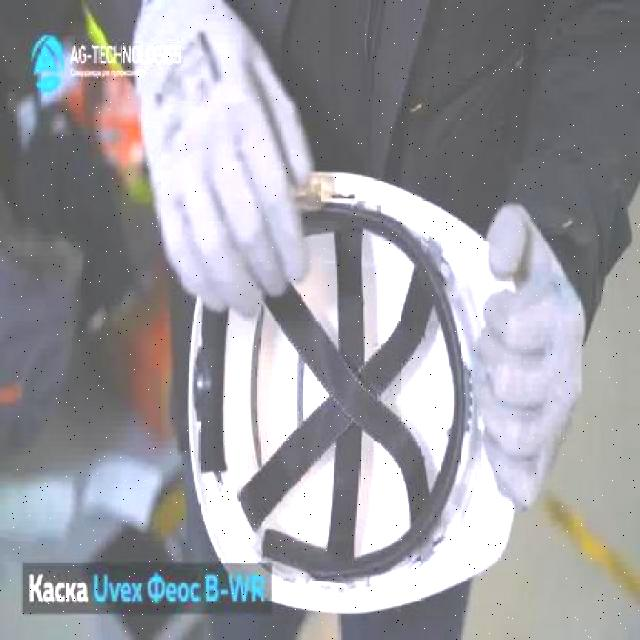Gloves: (132, 0, 312, 318), (470, 199, 584, 513)
Helmet: (184, 166, 522, 620)
